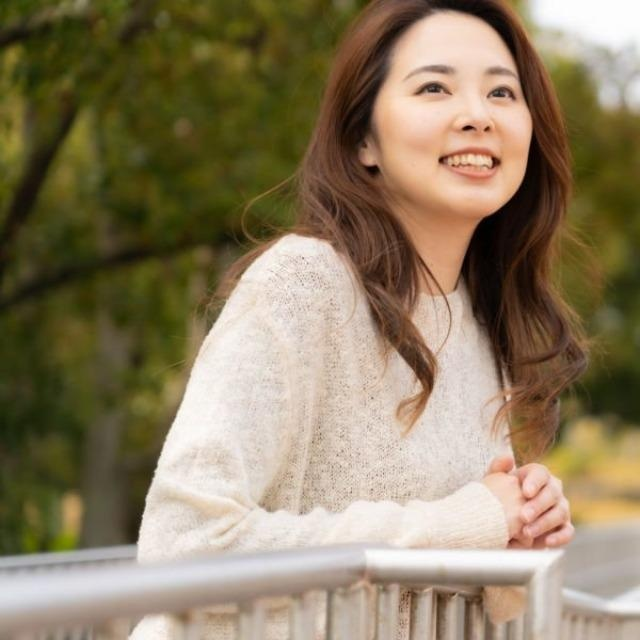Sin_Casco_Mascarrilla: (336, 0, 551, 218)
Sin_Chaleco: (203, 227, 536, 533)
